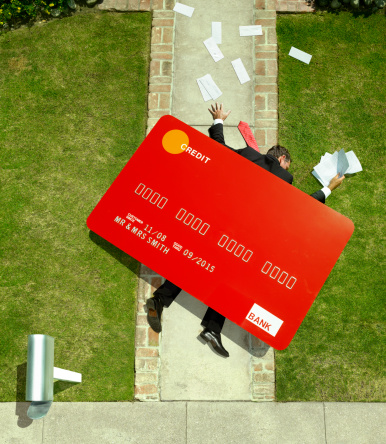deitado: (262, 134, 296, 166)
